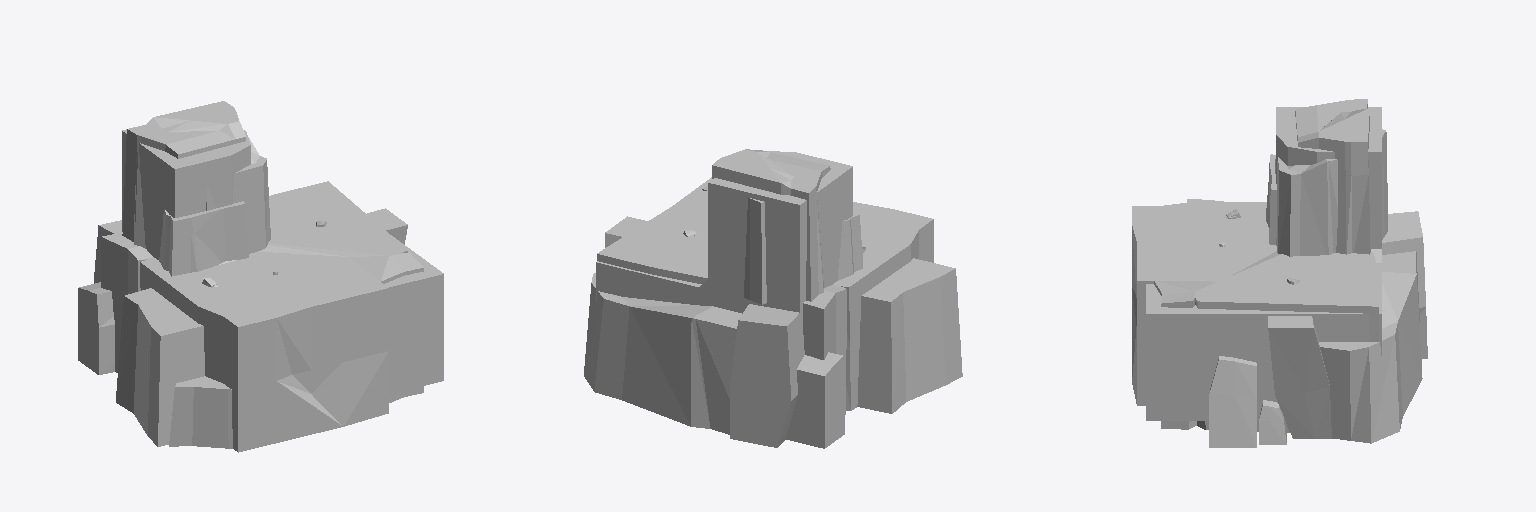
Rendered from cliff_1111_1000.obj.
The picture shows the model from 3 angles: view 1: azimuth 30°, elevation 25°; view 2: azimuth 150°, elevation 25°; view 3: azimuth 270°, elevation 25°; orthographic projection.
Parts seen in each view (by area): view 1: tile_1111_1000; view 2: tile_1111_1000; view 3: tile_1111_1000.
Boxes of the visible parts, box(x1,y1,x2,y2) form: tile_1111_1000: box(78, 101, 443, 452); tile_1111_1000: box(584, 149, 962, 448); tile_1111_1000: box(1132, 99, 1427, 447).
Size of the model in its own units: 2.86 by 2.24 by 2.51.